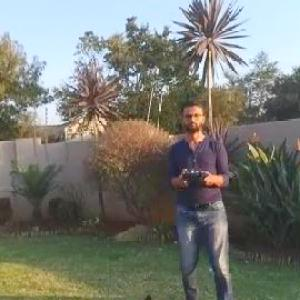follow: (164, 98, 236, 299)
